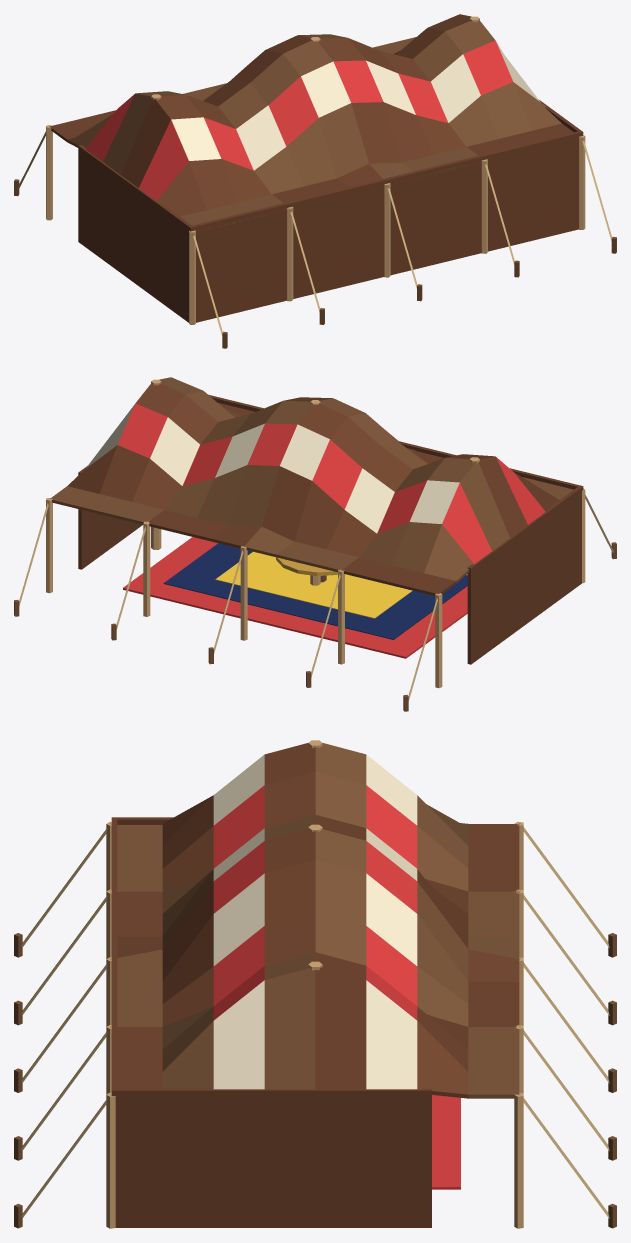
Rendered from BedouinTent.fbx.
3 renders of one model, top to bottom at view 1: azimuth 30°, elevation 25°; view 2: azimuth 150°, elevation 25°; view 3: azimuth 270°, elevation 25°, orthographic. The views are drawn at different scales.
Parts seen in each view (by area): view 1: BedouinTent_Chocolate, BedouinTent_WoodDark, BedouinTent_Red, BedouinTent_Cream, BedouinTent_WoodLight, BedouinTent_Rope; view 2: BedouinTent_Chocolate, BedouinTent_WoodDark, BedouinTent_Red, BedouinTent_Cream, BedouinTent_Navy, BedouinTent_Yellow, BedouinTent_WoodLight, BedouinTent_Rope, BedouinTent_Brass; view 3: BedouinTent_Chocolate, BedouinTent_WoodDark, BedouinTent_Cream, BedouinTent_Red, BedouinTent_WoodLight, BedouinTent_Rope.
Boxes of the visible parts, x1,y1,x2,y2 form: BedouinTent_Chocolate: (49,14,583,322); BedouinTent_WoodDark: (14,20,616,348); BedouinTent_Red: (85,40,513,200); BedouinTent_Cream: (171,42,540,170); BedouinTent_WoodLight: (46,16,585,324); BedouinTent_Rope: (17,125,612,335); BedouinTent_Chocolate: (67,383,583,664); BedouinTent_WoodDark: (14,377,616,711); BedouinTent_Red: (117,403,545,658); BedouinTent_Cream: (85,404,459,533); BedouinTent_Navy: (163,543,467,639); BedouinTent_Yellow: (215,551,467,618); BedouinTent_WoodLight: (46,379,585,688); BedouinTent_Rope: (19,495,613,700); BedouinTent_Brass: (276,557,337,576); BedouinTent_Chocolate: (111,743,519,1227); BedouinTent_WoodDark: (14,743,616,1228); BedouinTent_Cream: (213,754,417,1089); BedouinTent_Red: (213,785,460,1189); BedouinTent_WoodLight: (106,740,523,1228); BedouinTent_Rope: (21,823,609,1218).
Bounding box in the file's own units: 22.34 × 10 × 20.7.
